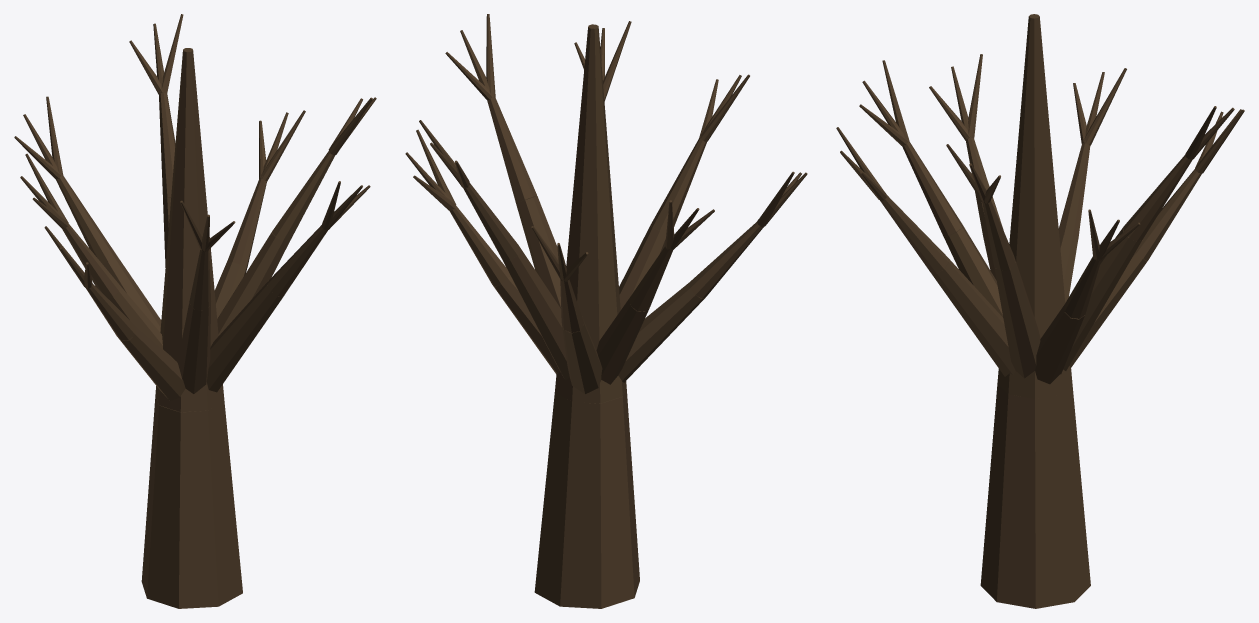
Rendered from oak_mature_winter_3.glb.
3 views of the same model, side by side, from view 1: azimuth 30°, elevation 25°; view 2: azimuth 150°, elevation 25°; view 3: azimuth 270°, elevation 25° (orthographic). The views are drawn at different scales.
Parts seen in each view (by area): view 1: oak_mature_winter_3; view 2: oak_mature_winter_3; view 3: oak_mature_winter_3.
Part boxes in pixels (left/top/right/bottom): oak_mature_winter_3: left=14, top=14, right=376, bottom=608; oak_mature_winter_3: left=405, top=14, right=807, bottom=608; oak_mature_winter_3: left=836, top=14, right=1244, bottom=608.
Bounding box in the file's own units: 10.35 × 16.32 × 10.66.
